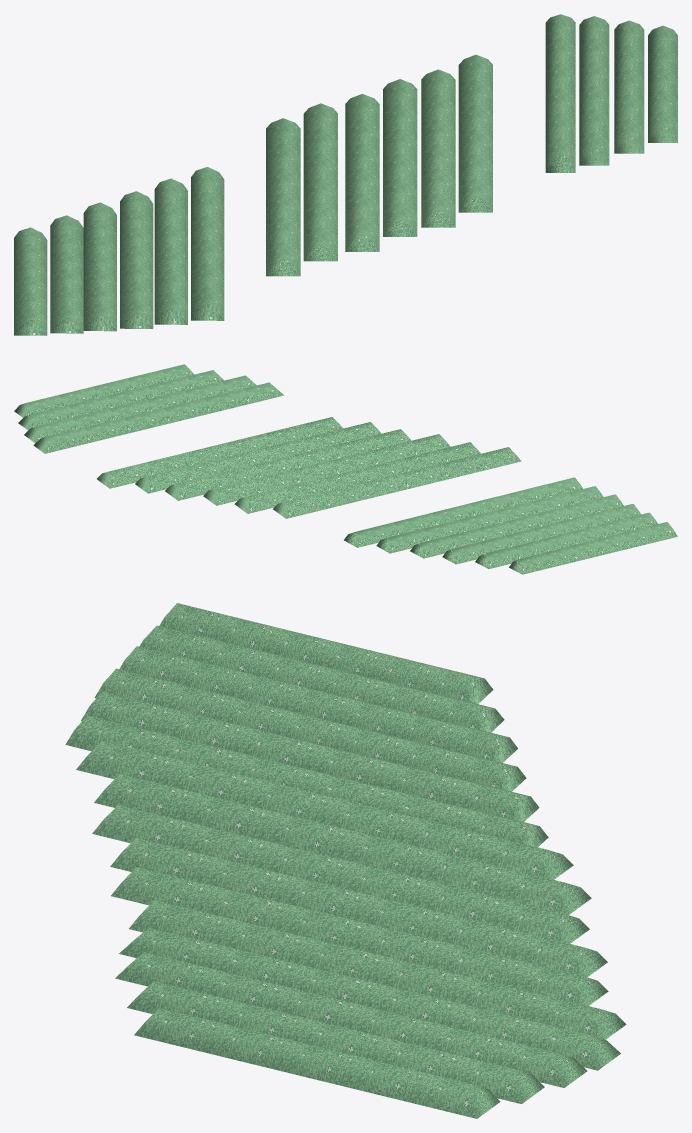
File: kd_stage_136282_5_0.glb
3 views of the same model, one above another, from view 1: azimuth 30°, elevation 25°; view 2: azimuth 150°, elevation 25°; view 3: azimuth 270°, elevation 25° (orthographic). The views are drawn at different scales.
Parts seen in each view (by area): view 1: kd_stage_136282_5_0; view 2: kd_stage_136282_5_0; view 3: kd_stage_136282_5_0.
Boxes of the visible parts, left/top/right/bottom form: kd_stage_136282_5_0: left=14, top=14, right=677, bottom=335; kd_stage_136282_5_0: left=14, top=364, right=677, bottom=574; kd_stage_136282_5_0: left=65, top=603, right=626, bottom=1118.
Bounding box in the file's own units: 27.88 × 2.19 × 11.48.
1 material, 1 textured.
